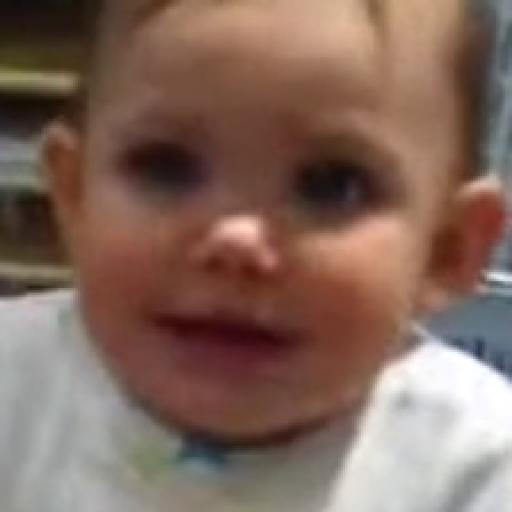Autism: (65, 8, 512, 489)
